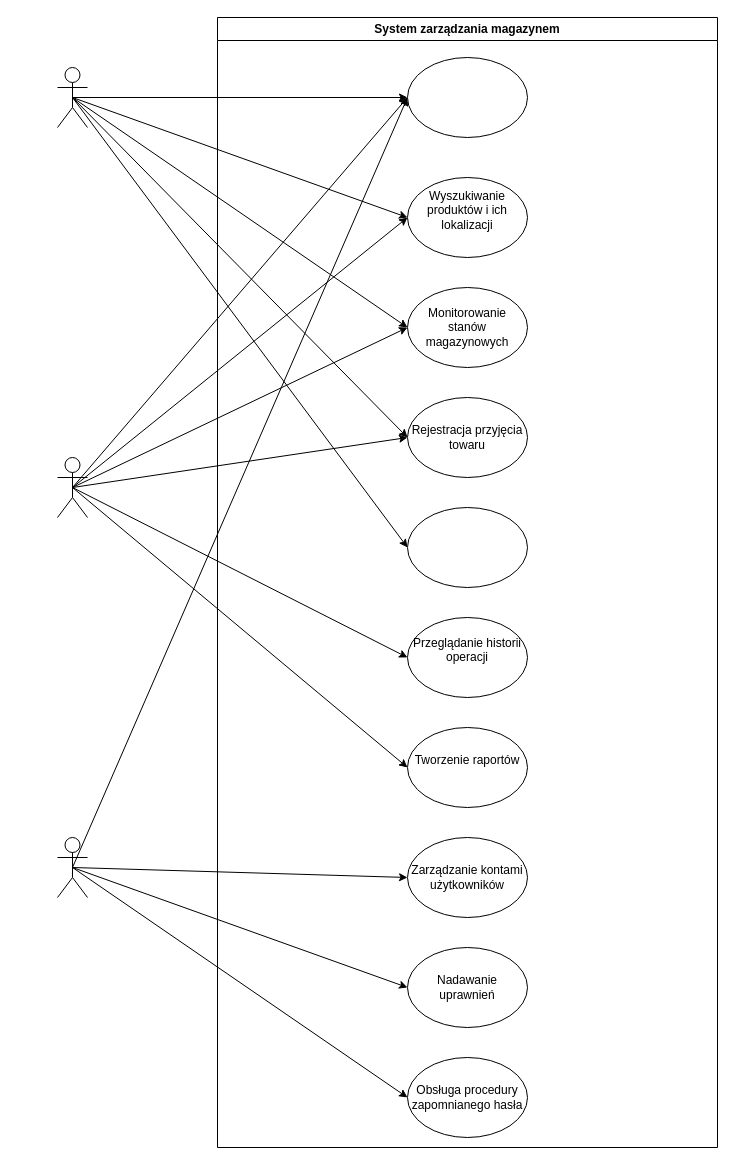
This 735x1165 diagram has some shape labels left out. Each missing label, with the centre of its shape:
"Administrator" goes at (72,867).
"Kierownik magazynu" goes at (72,487).
"Logowanie" goes at (467,97).
"Magazynier" goes at (72,97).
"Rejestracja wydania towaru" goes at (467,547).
